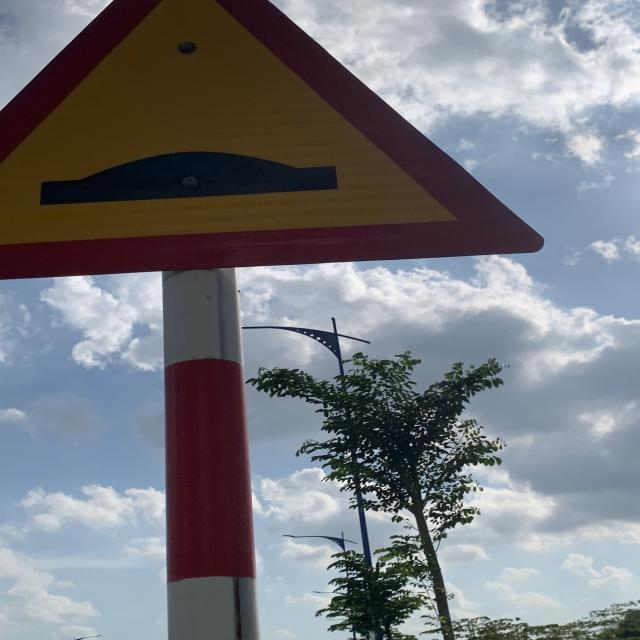Duong_Cong_Ben_Phai: (1, 0, 545, 281)
